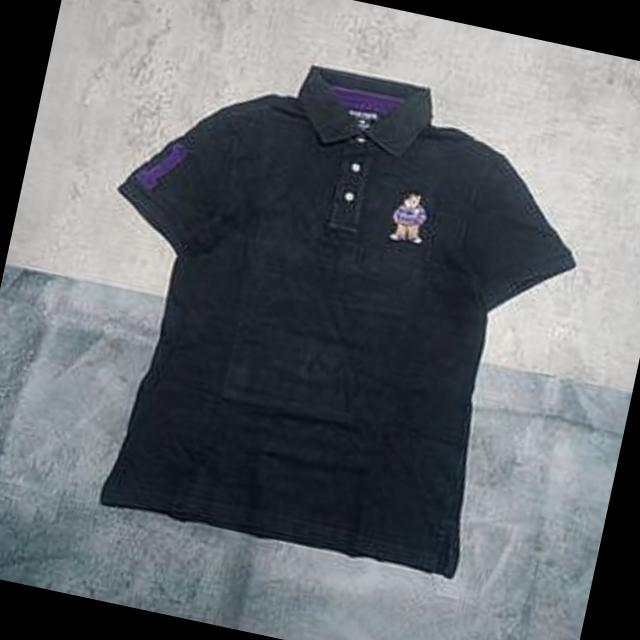T_SHIRT: (26, 9, 632, 612)
